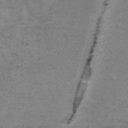finishing roll printing: (66, 0, 109, 125)
